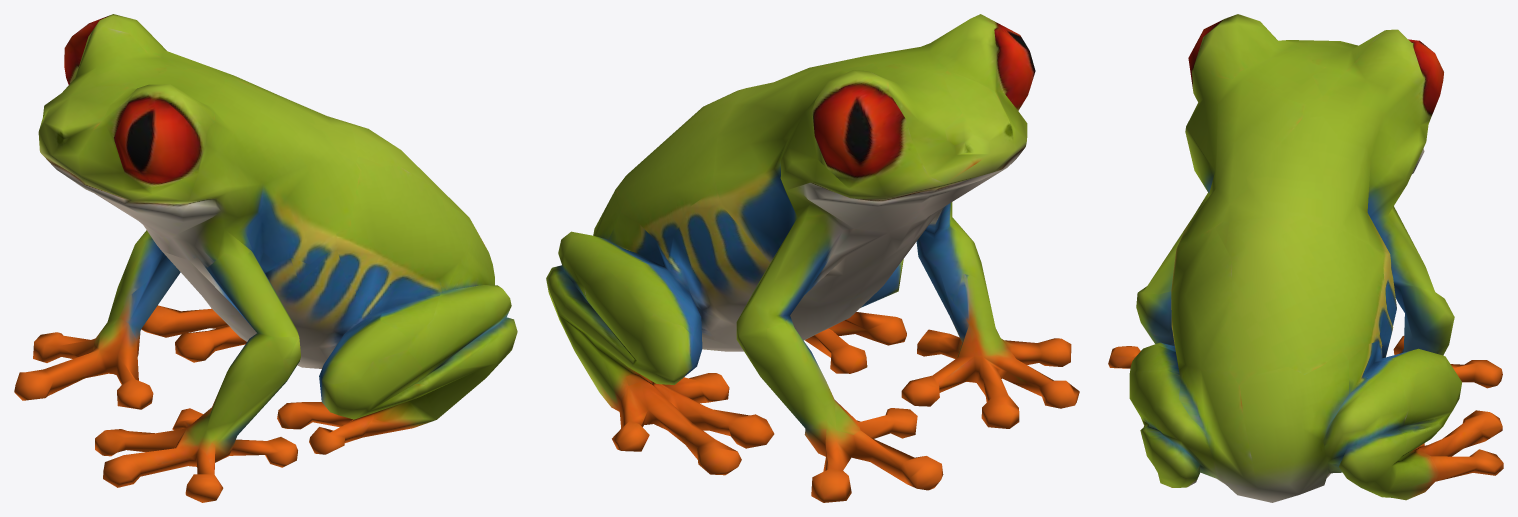
Rendered from fauna-frog.glb.
The picture shows the model from 3 angles, left to right: view 1: azimuth 30°, elevation 25°; view 2: azimuth 150°, elevation 25°; view 3: azimuth 270°, elevation 25°; orthographic projection. The views are drawn at different scales.
Visible parts, largest first — view 1: tripo_node_f719154e-8196-48db-af79-e305c2e8d50e; view 2: tripo_node_f719154e-8196-48db-af79-e305c2e8d50e; view 3: tripo_node_f719154e-8196-48db-af79-e305c2e8d50e.
Boxes of the visible parts, x1,y1,x2,y2 form: tripo_node_f719154e-8196-48db-af79-e305c2e8d50e: (14, 14, 517, 502); tripo_node_f719154e-8196-48db-af79-e305c2e8d50e: (546, 14, 1079, 502); tripo_node_f719154e-8196-48db-af79-e305c2e8d50e: (1108, 14, 1503, 502).
Size of the model in its own units: 0.9973 by 0.8305 by 0.8268.
1 material, 1 textured.
